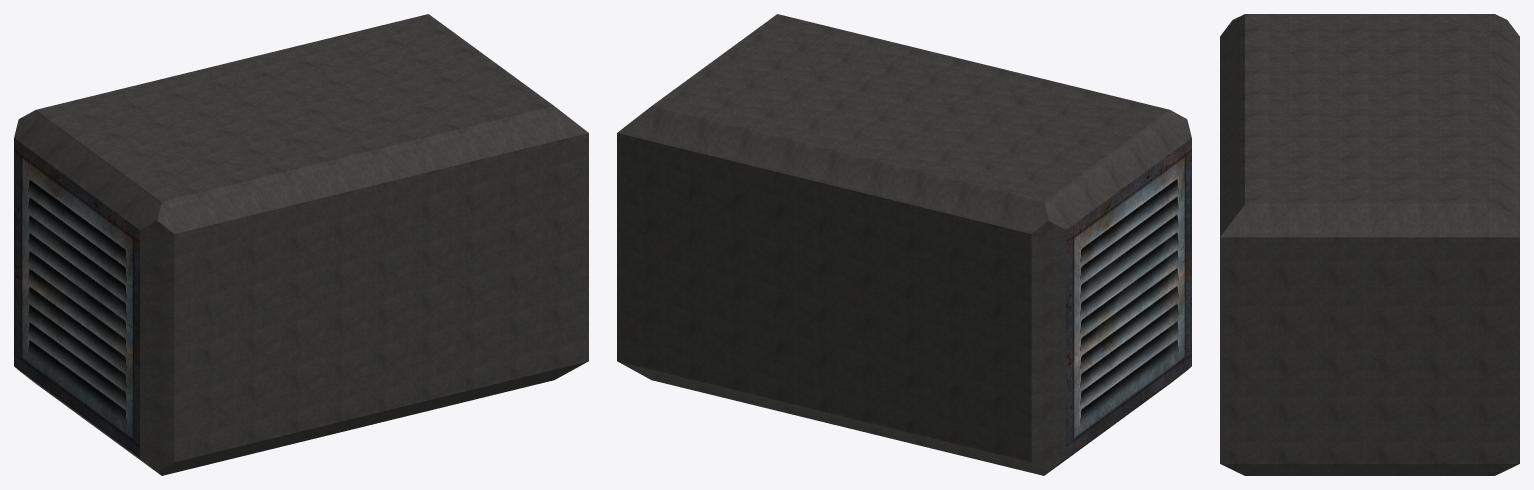
Rendered from largeblockVents.fbx.
The picture shows the model from 3 angles, left to right: view 1: azimuth 30°, elevation 25°; view 2: azimuth 150°, elevation 25°; view 3: azimuth 270°, elevation 25°; orthographic projection.
Visible parts, largest first — view 1: Object; view 2: Object; view 3: Object.
Part boxes in pixels (x1,y1,x2,y2): Object: (14, 14, 588, 475); Object: (617, 14, 1191, 475); Object: (1220, 14, 1519, 475).
Size of the model in its own units: 8000 by 4800 by 4800.
